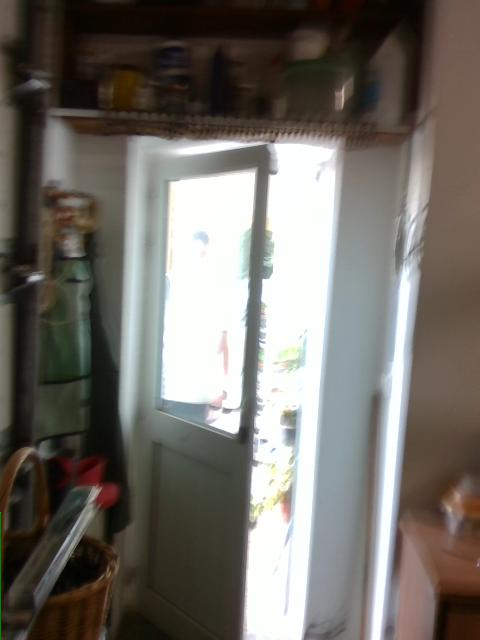semi_door: (131, 132, 345, 639)
